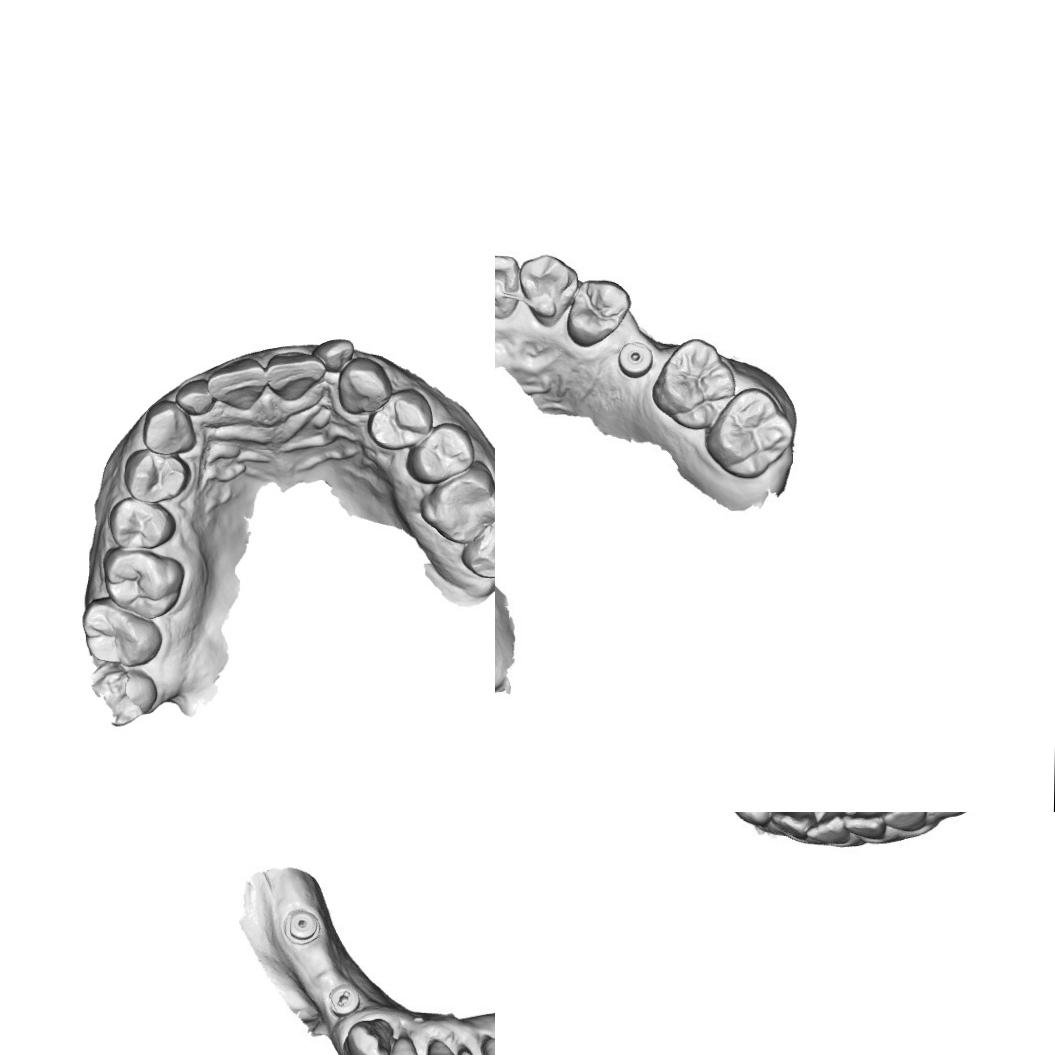canine: (517, 247, 578, 326), (334, 354, 394, 416), (139, 396, 198, 458), (345, 1017, 397, 1055), (728, 812, 783, 826)
implant: (614, 336, 656, 380), (282, 907, 322, 946)
implant_minus: (327, 980, 363, 1020)
incisor: (262, 348, 326, 402), (206, 358, 266, 406), (173, 374, 219, 418), (312, 336, 356, 373), (768, 812, 816, 843), (495, 256, 517, 322), (811, 812, 851, 846), (848, 812, 888, 841), (384, 1037, 428, 1055), (427, 1038, 460, 1055), (888, 812, 924, 826)
molar: (706, 387, 792, 480), (652, 337, 734, 432), (418, 458, 495, 547), (101, 547, 185, 622), (79, 596, 163, 670), (457, 500, 495, 582)
premolar: (405, 420, 476, 488), (565, 278, 632, 348), (367, 386, 435, 454), (123, 446, 193, 504), (106, 496, 177, 551)
